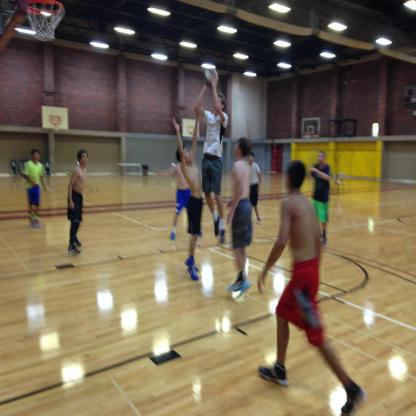face: (215, 98, 223, 113), (184, 150, 193, 163), (235, 142, 242, 156), (82, 154, 88, 165), (318, 153, 324, 164), (248, 155, 254, 163), (35, 152, 40, 159)
